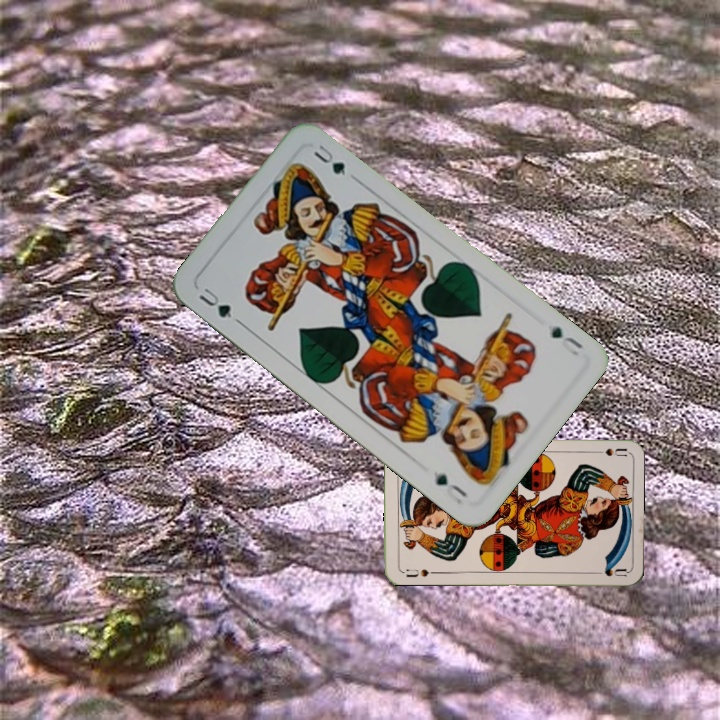GU: (194, 283, 235, 321), (547, 322, 586, 359)
SU: (588, 444, 628, 459), (403, 565, 438, 580)
